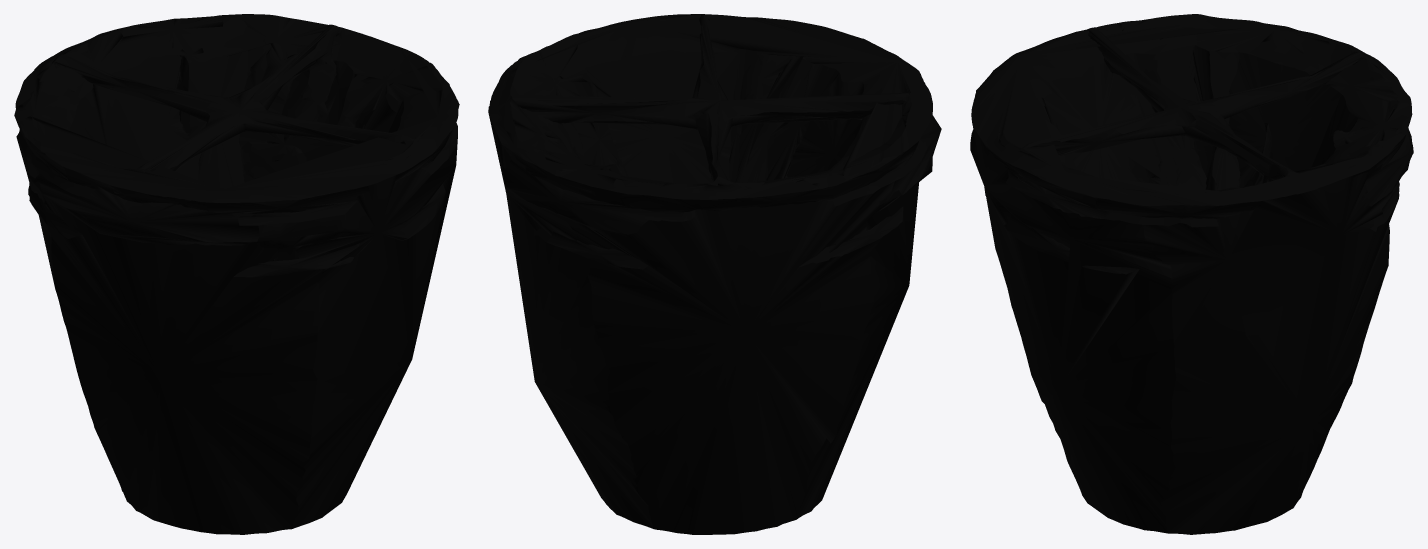
3 views of the same model, side by side, from view 1: azimuth 30°, elevation 25°; view 2: azimuth 150°, elevation 25°; view 3: azimuth 270°, elevation 25° (orthographic).
Parts seen in each view (by area): view 1: world; view 2: world; view 3: world.
Part boxes in pixels (x1,y1,x2,y2): world: (14,14,459,534); world: (488,14,941,534); world: (970,14,1413,534).
Bounding box in the file's own units: 0.3261 × 0.3231 × 0.3269.
1 material, 1 textured.
